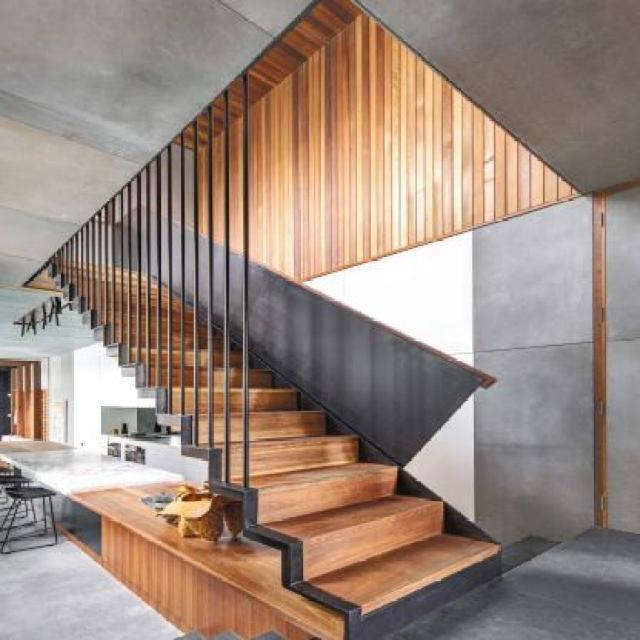stair: (28, 245, 556, 633)
